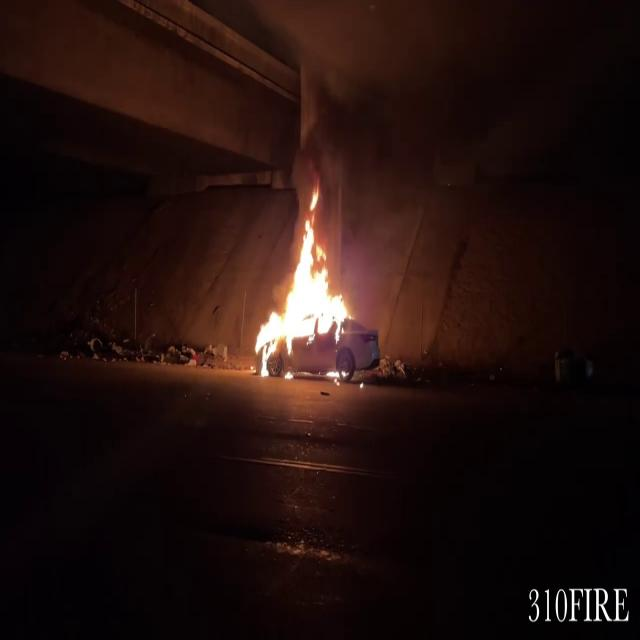Fire: (250, 181, 358, 375)
